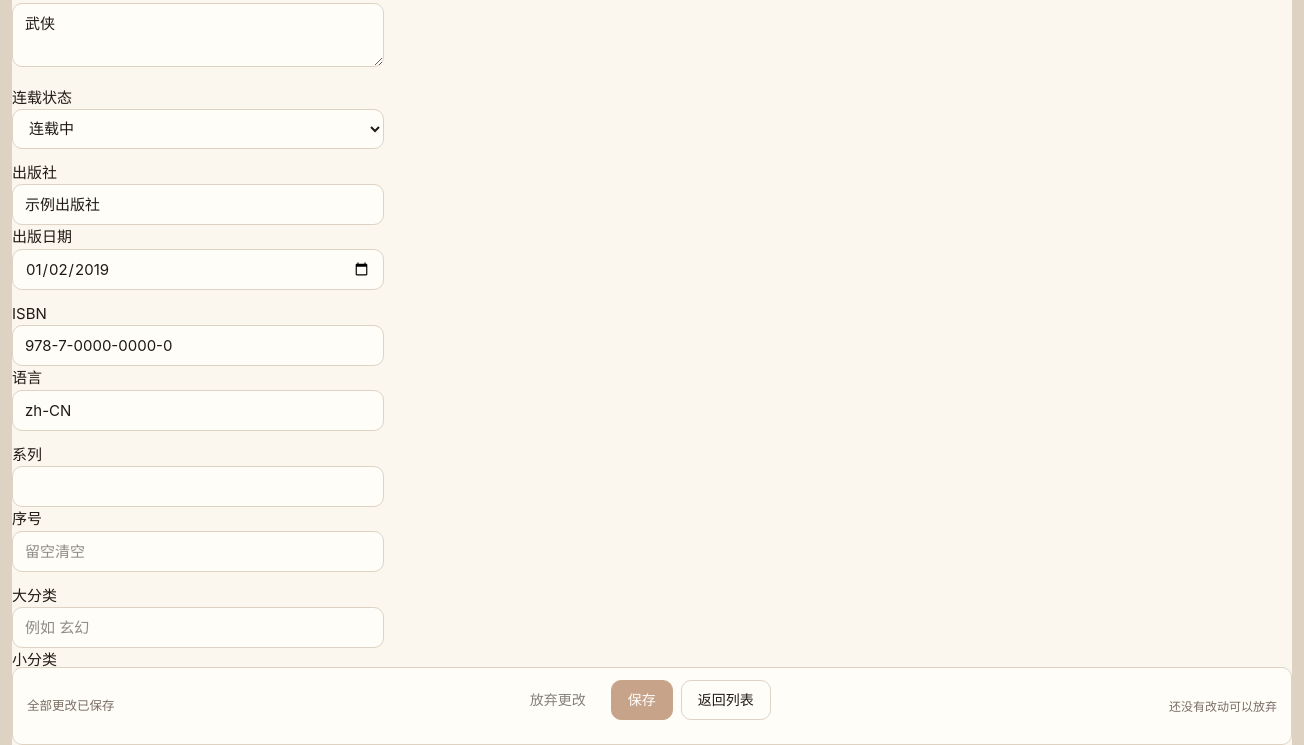
it: 单书管理页 › 改 ISBN 计入未保存项，保存只下发这一个字段
The width and height of the screenshot is (1304, 745).
(page scrolled)
Replace the text in the field with test id "admin-isbn" with "978-7-1111-1111-1": (198, 346) 12,325 -> 384,366
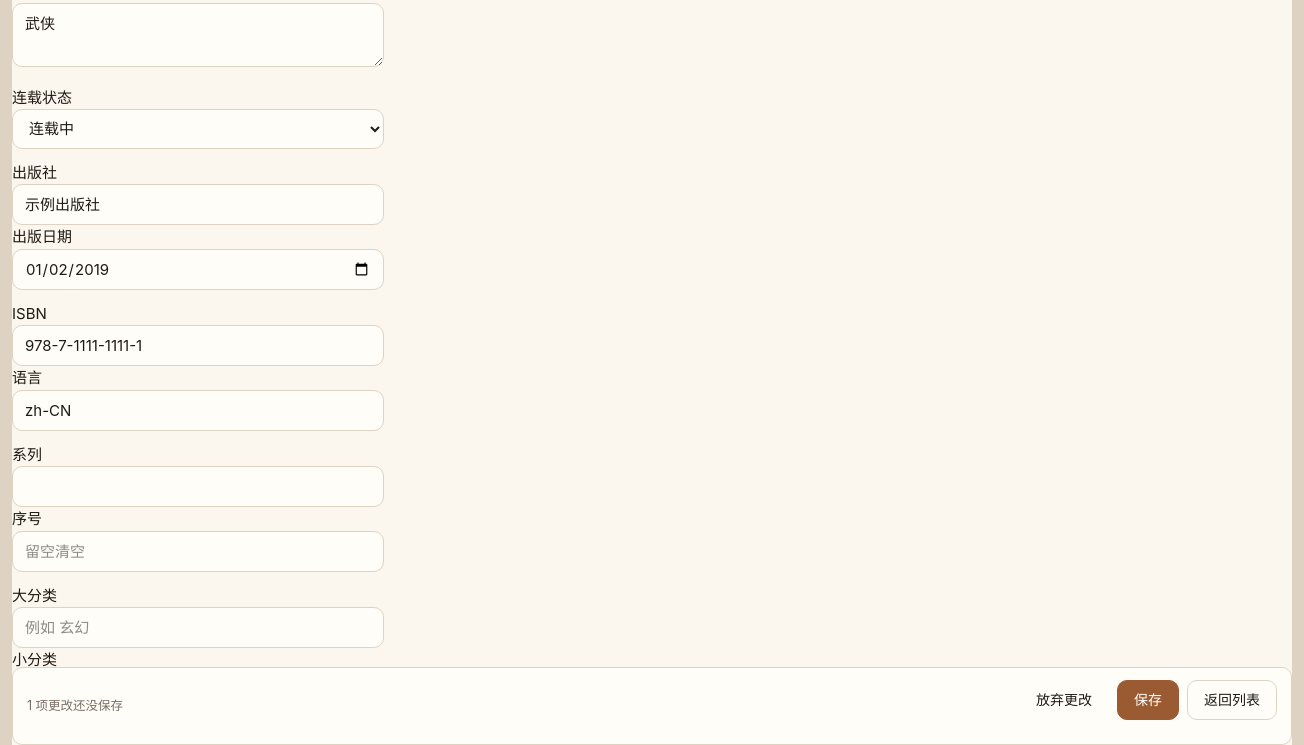
Result: the text with test id "admin-dirty" reads "1 项更改还没保存" at 27,698 -> 123,713
Click the button with test id "admin-save": (1148, 700) 1117,680 -> 1179,720
(page scrolled)
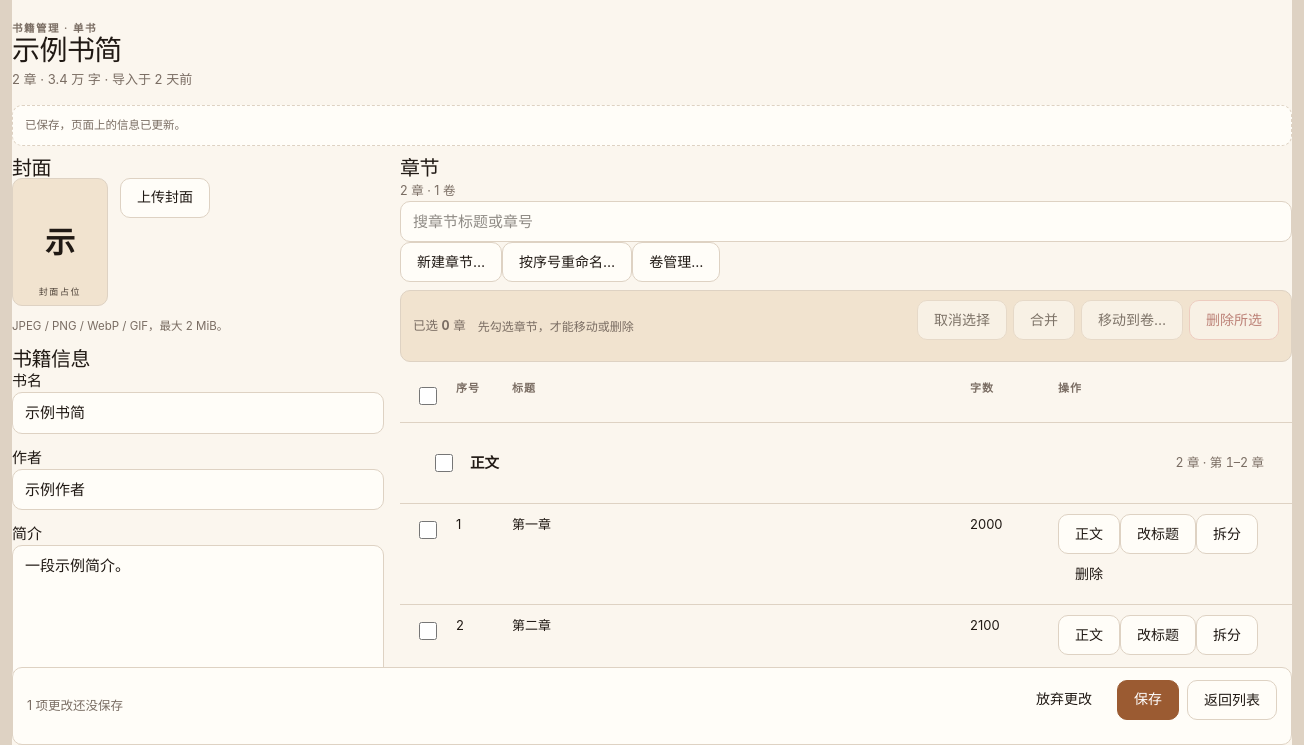
Result: the message with test id "admin-book-banner" shows "已保存" at 25,118 -> 186,132
